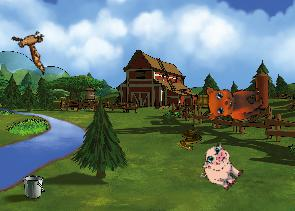bear: (200, 73, 267, 128)
eagle: (3, 20, 61, 75)
pig: (193, 140, 249, 195)
